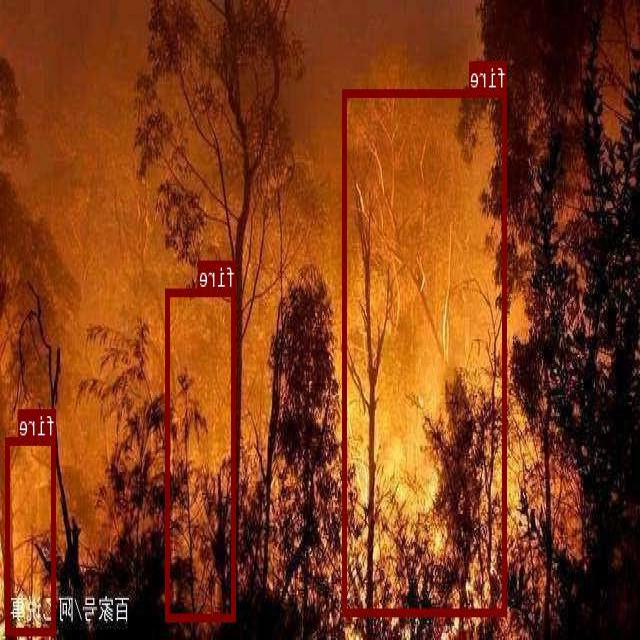fire: (344, 88, 508, 614), (166, 288, 237, 620), (7, 436, 57, 633)
